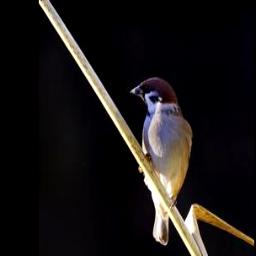Sparrow: (129, 75, 195, 246)
